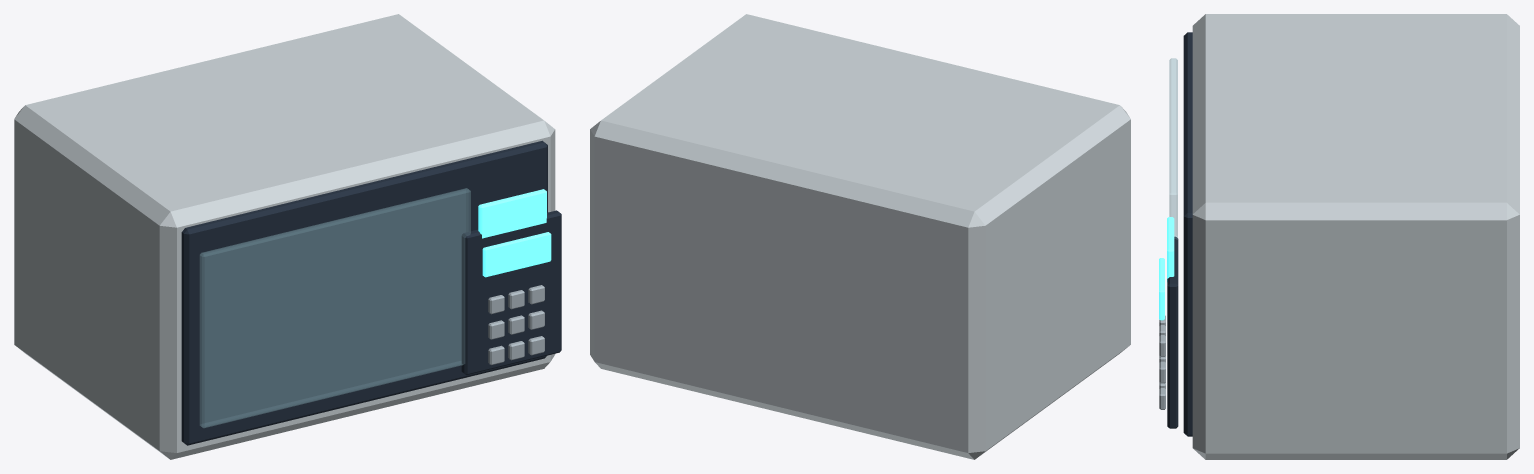
Rendered from restaurant_12.glb.
The picture shows the model from 3 angles, left to right: view 1: azimuth 30°, elevation 25°; view 2: azimuth 150°, elevation 25°; view 3: azimuth 270°, elevation 25°; orthographic projection. The views are drawn at different scales.
Visible parts, largest first — view 1: MicrowaveBody, FrontPlate, GlassDoor, KeypadPanel, Screen, TinyScreen; view 2: MicrowaveBody; view 3: MicrowaveBody, FrontPlate, KeypadPanel, GlassDoor, Screen, TinyScreen.
Part boxes in pixels (bbox=[...]): MicrowaveBody: bbox=[14, 14, 555, 459]; FrontPlate: bbox=[181, 140, 547, 445]; GlassDoor: bbox=[199, 188, 470, 427]; KeypadPanel: bbox=[461, 210, 561, 375]; Screen: bbox=[478, 189, 546, 238]; TinyScreen: bbox=[482, 232, 551, 277]; MicrowaveBody: bbox=[590, 14, 1130, 459]; MicrowaveBody: bbox=[1192, 14, 1519, 459]; FrontPlate: bbox=[1183, 32, 1192, 436]; KeypadPanel: bbox=[1167, 236, 1178, 428]; GlassDoor: bbox=[1169, 58, 1177, 239]; Screen: bbox=[1167, 217, 1174, 281]; TinyScreen: bbox=[1159, 258, 1164, 320].
Size of the model in its own units: 0.65 by 0.39 by 0.496.
